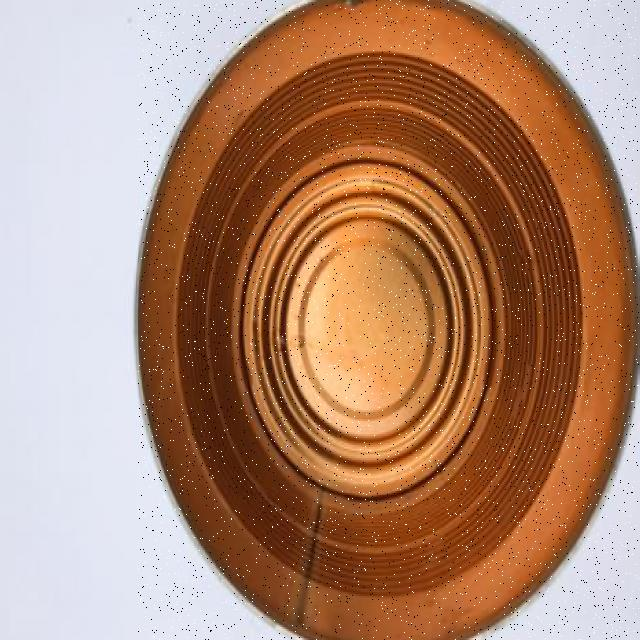metal: (139, 0, 639, 640)
